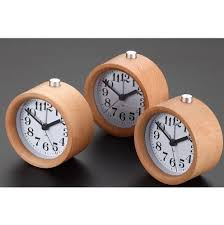alarm_clock: (4, 47, 222, 184), (4, 47, 218, 184), (5, 47, 218, 184), (5, 71, 218, 184)
